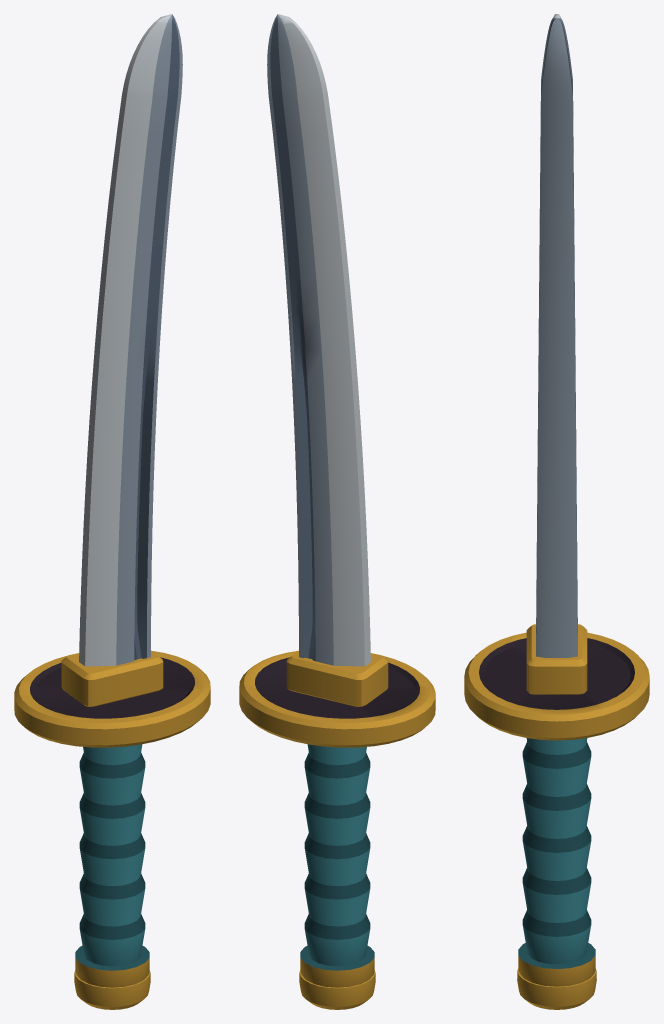
File: Katana_07.glb
The picture shows the model from 3 angles, left to right: view 1: azimuth 30°, elevation 25°; view 2: azimuth 150°, elevation 25°; view 3: azimuth 270°, elevation 25°; orthographic projection. The views are drawn at different scales.
Visible parts, largest first — view 1: Katana_07; view 2: Katana_07; view 3: Katana_07.
Boxes of the visible parts, box(x1,y1,x2,y2) form: Katana_07: box(14, 14, 210, 1009); Katana_07: box(239, 14, 435, 1009); Katana_07: box(464, 14, 649, 1009).
Size of the model in its own units: 1.26 by 6.66 by 1.11.
